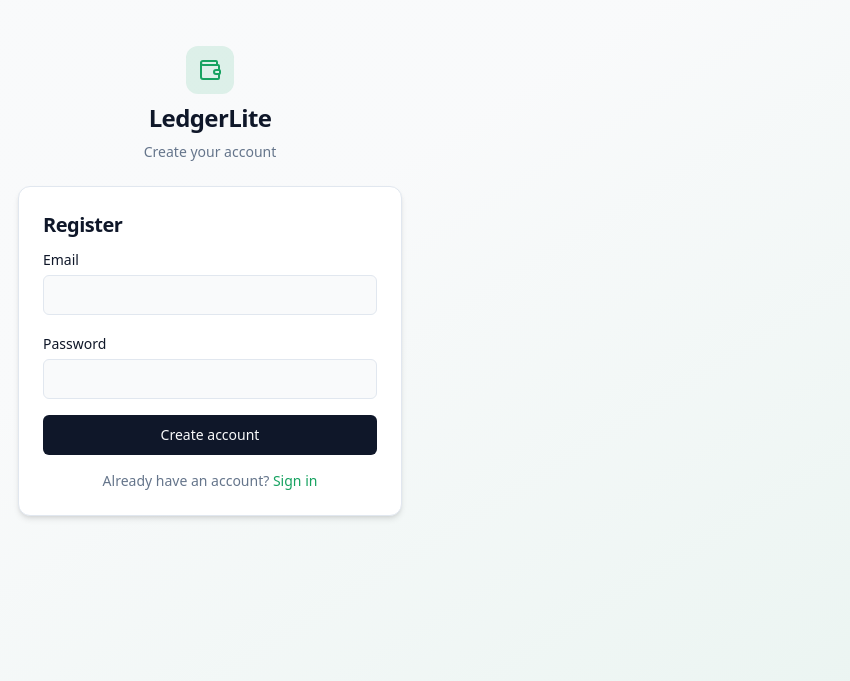
Test: Register page › displays the error detail message on API error
In the field labelled "Email": x=210, y=295 [43,275,377,315], type "new@example.com"
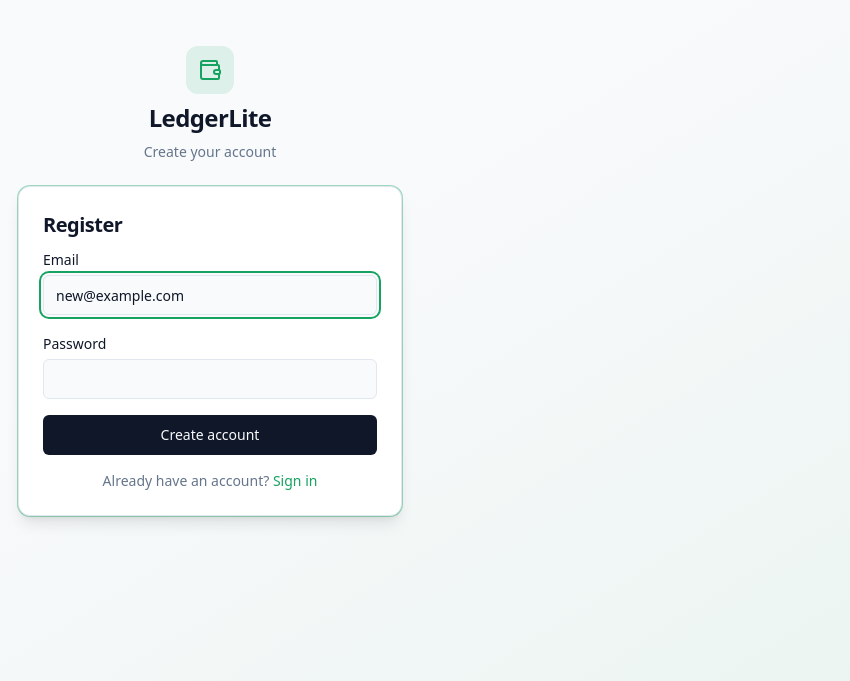
In the password field labelled "Password": x=210, y=379 [43,359,377,399], type "securepass"
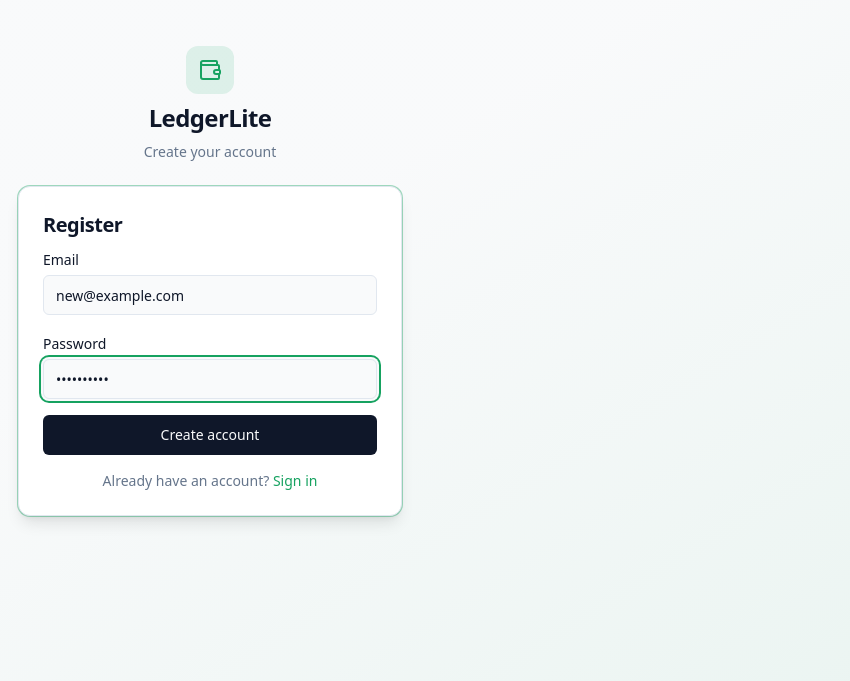
Click the button "Create account": x=210, y=435 [43,415,377,455]
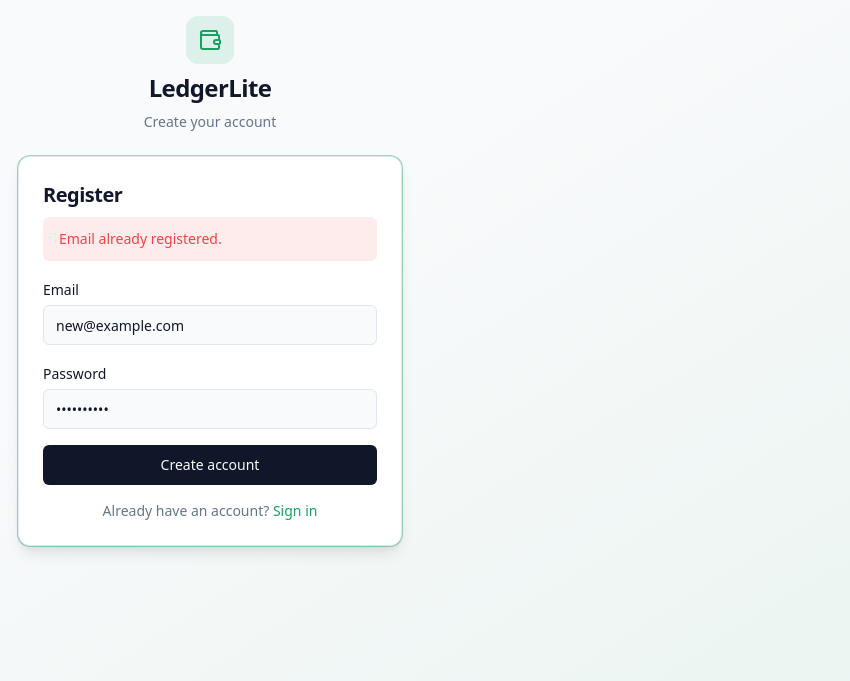
expect the text "Email already registered." is shown: met, box [43,217,377,261]
